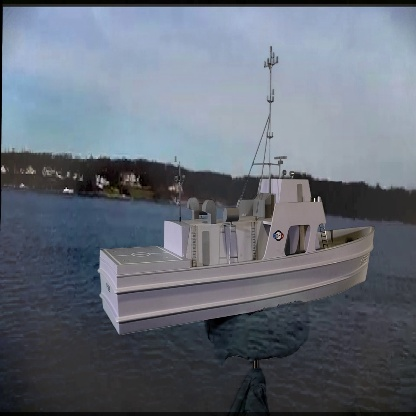YP689: (96, 42, 377, 338)
